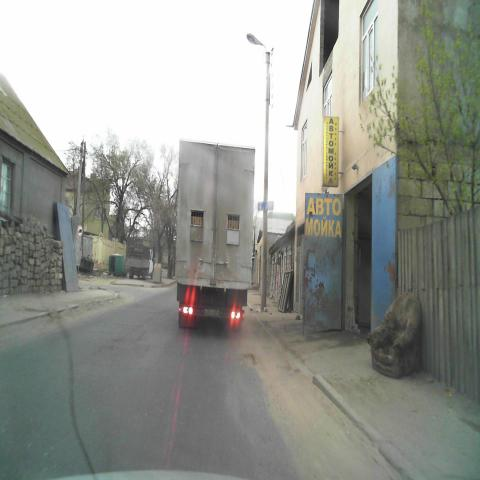6_15_1: (256, 200, 274, 212)
